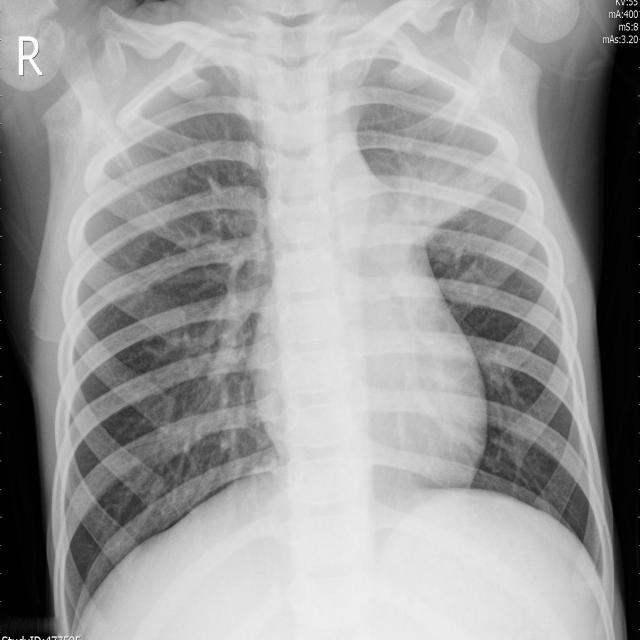low-pneumonia: (177, 177, 273, 449), (392, 101, 507, 239)
